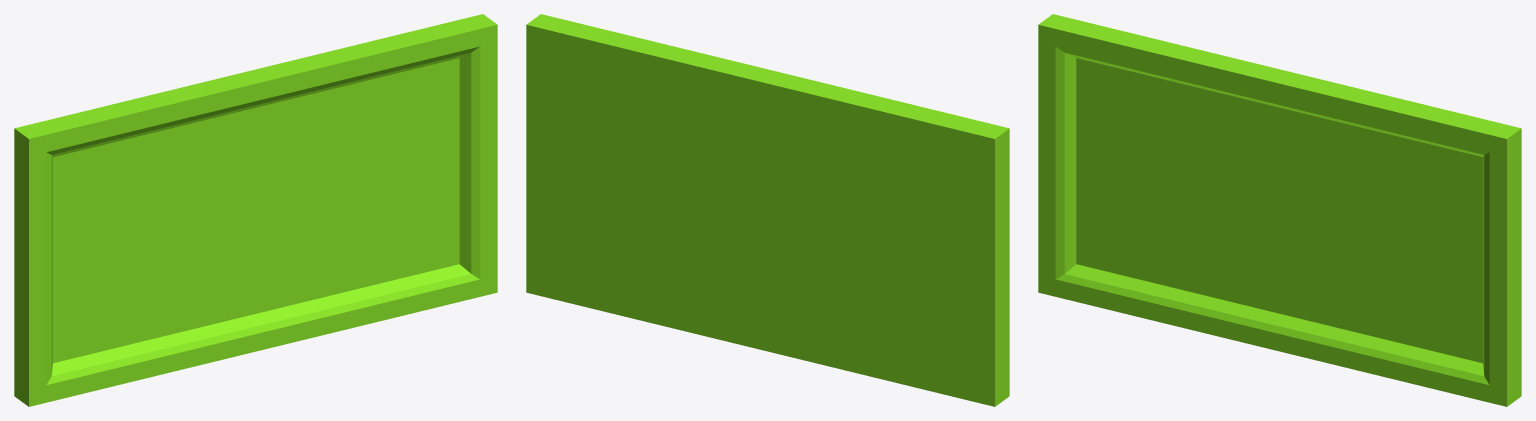
The model's file is SM_Frame_B.fbx.
3 views of the same model, side by side, from view 1: azimuth 30°, elevation 25°; view 2: azimuth 150°, elevation 25°; view 3: azimuth 330°, elevation 25° (orthographic).
Visible parts, largest first — view 1: SM_Frame_B; view 2: SM_Frame_B; view 3: SM_Frame_B.
Boxes of the visible parts, x1,y1,x2,y2 form: SM_Frame_B: [14, 14, 497, 406]; SM_Frame_B: [526, 14, 1009, 406]; SM_Frame_B: [1038, 14, 1521, 406].
Bounding box in the file's own units: 236 × 129 × 12.81.
